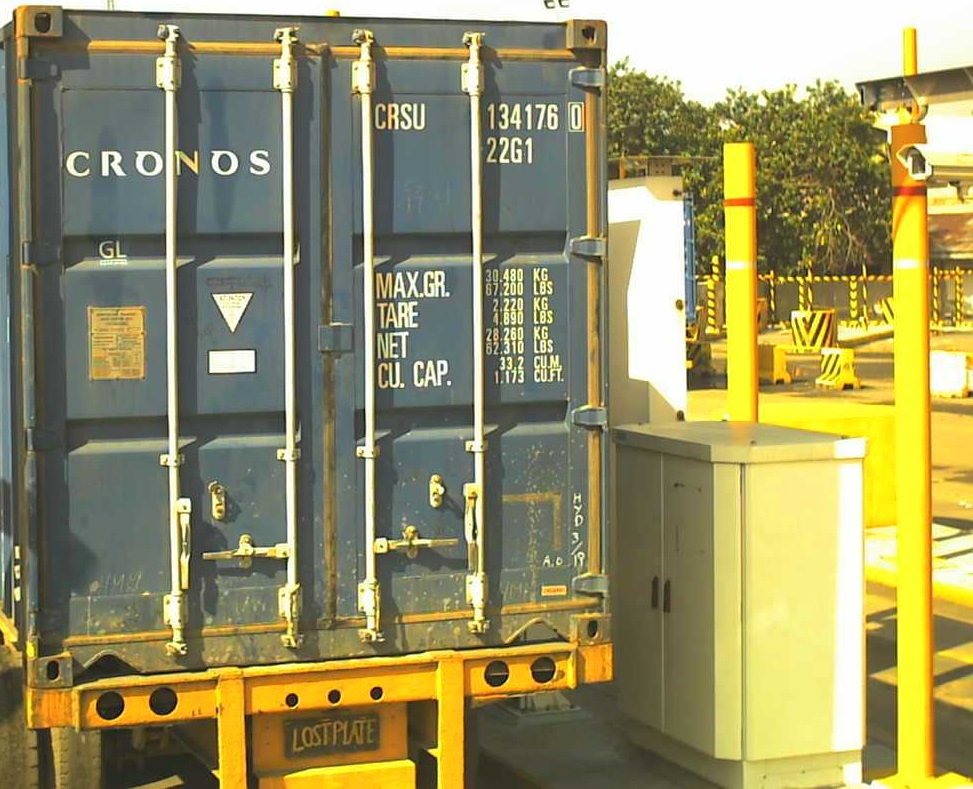container_door: (7, 4, 609, 687)
